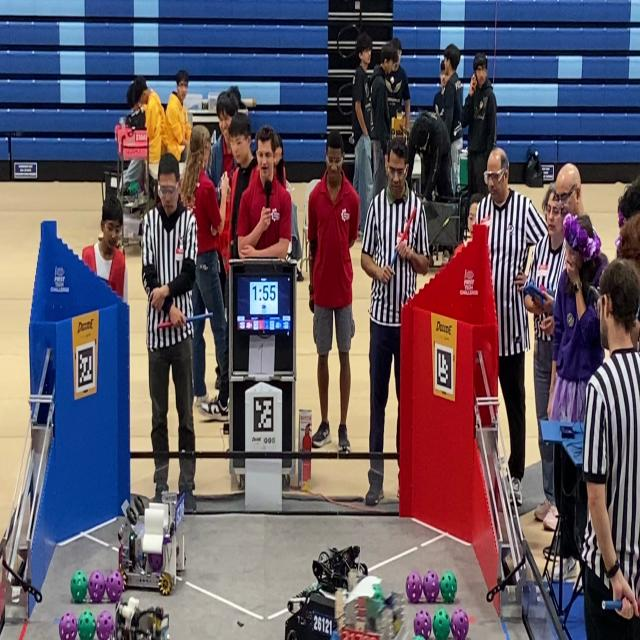artifact_green: (367, 585, 385, 618), (432, 608, 450, 639), (71, 571, 88, 603), (78, 610, 96, 640), (441, 571, 457, 603), (373, 584, 385, 602), (128, 181, 140, 195), (331, 630, 339, 639), (414, 636, 424, 639)
artifact_purple: (88, 571, 106, 603), (451, 609, 469, 639), (106, 571, 123, 602), (423, 571, 439, 603), (96, 611, 114, 639), (406, 572, 422, 603), (414, 609, 431, 638), (59, 612, 77, 639), (148, 553, 163, 572)
